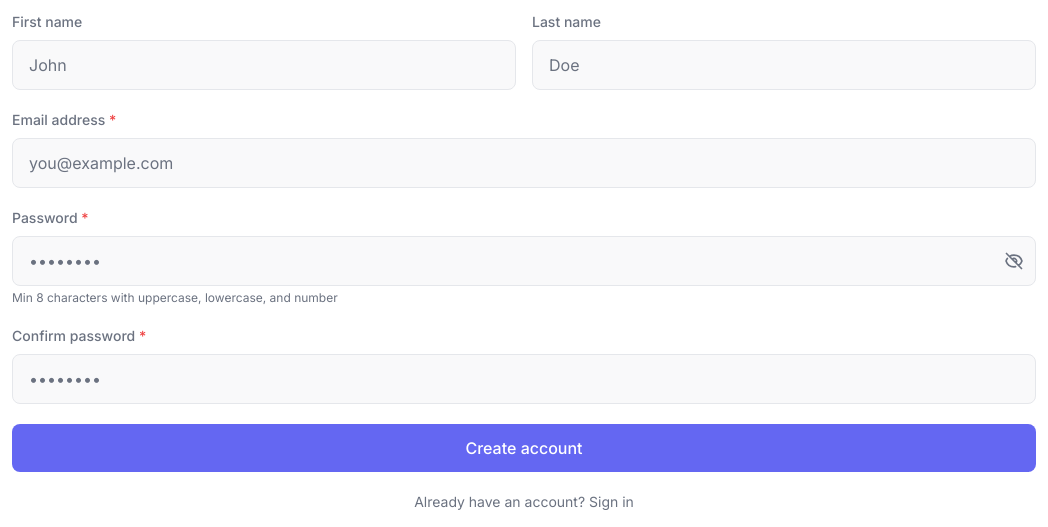
it: RegisterForm › should display the email address on the success screen
Type "signup@example.com" into the field labelled "Email address *" at [524, 163], box left=12, top=138, right=1036, bottom=188
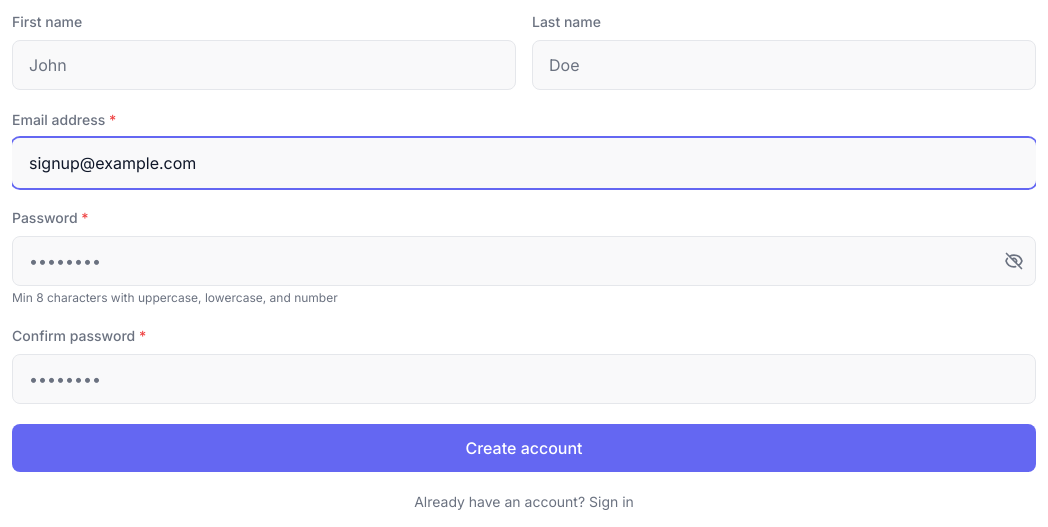
Type "Password1" into the password field labelled "Password *" at [524, 261], box left=12, top=236, right=1036, bottom=286
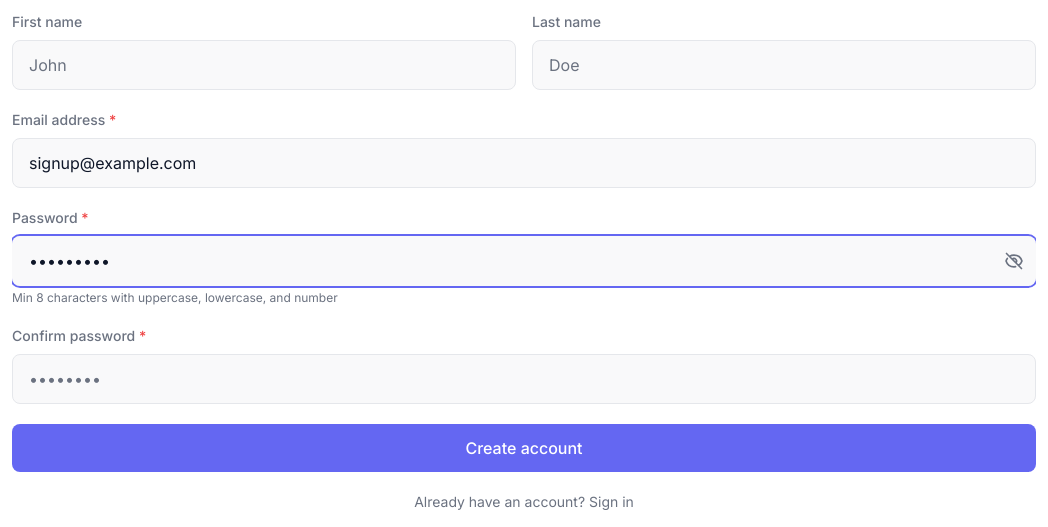
Type "Password1" into the password field labelled "Confirm password *" at [524, 379], box left=12, top=354, right=1036, bottom=404
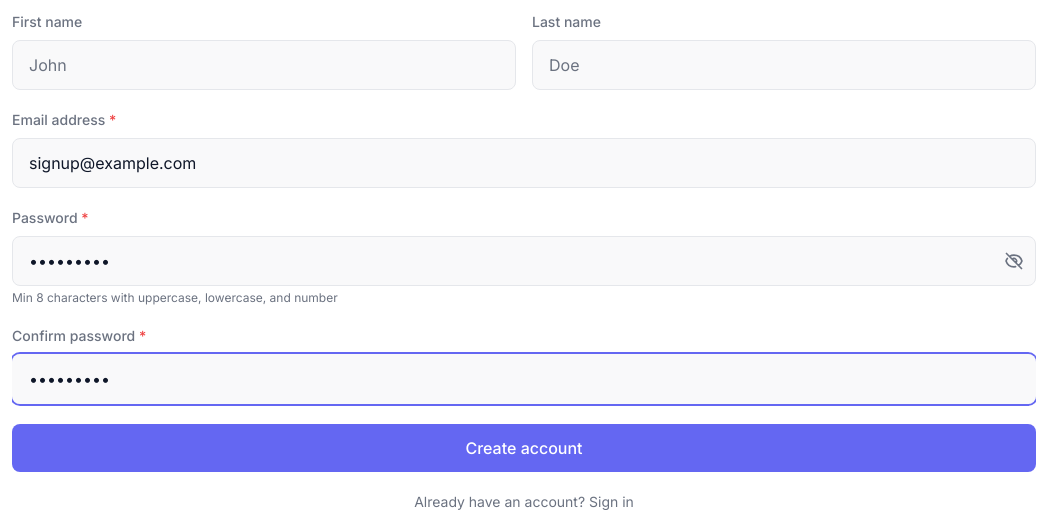
Click the button "Create account" at [524, 448], box left=12, top=424, right=1036, bottom=472
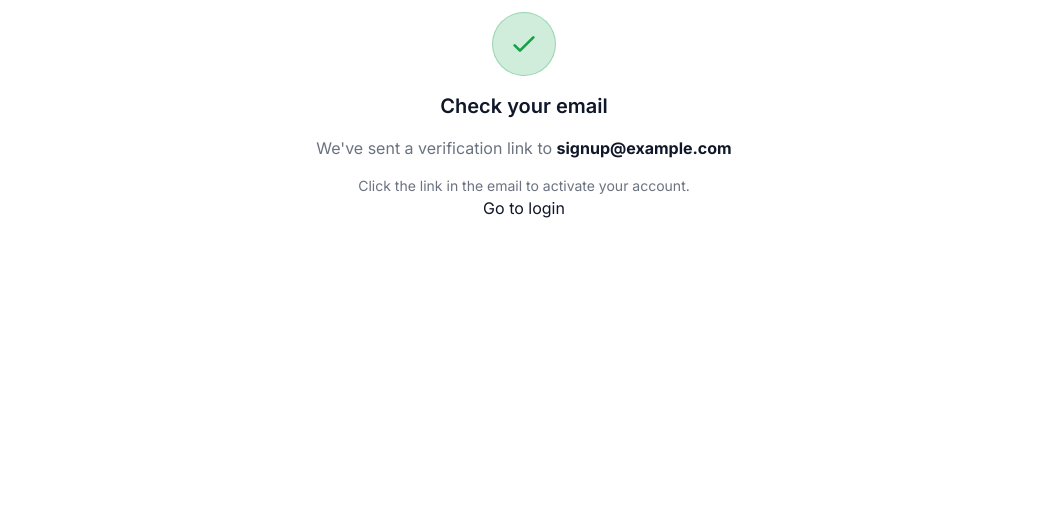
expect the text "signup@example.com" is shown: met, box left=556, top=138, right=732, bottom=158
